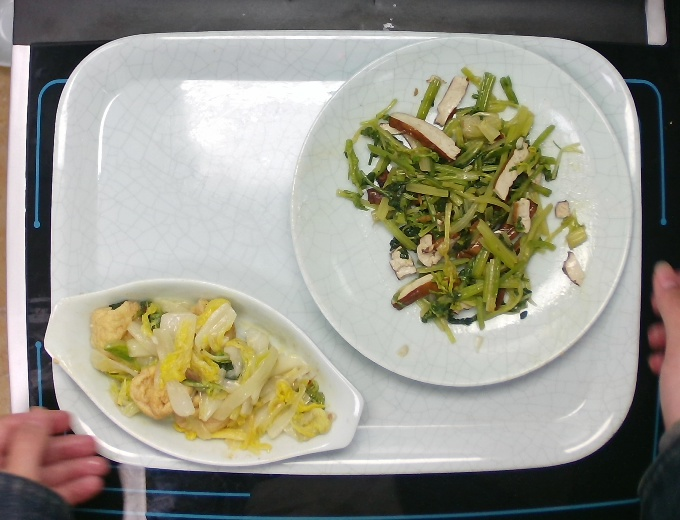JYsf-Da_Yuan_Pan: (286, 28, 637, 393)
JYsf-Yu_Pan: (40, 272, 368, 471)
